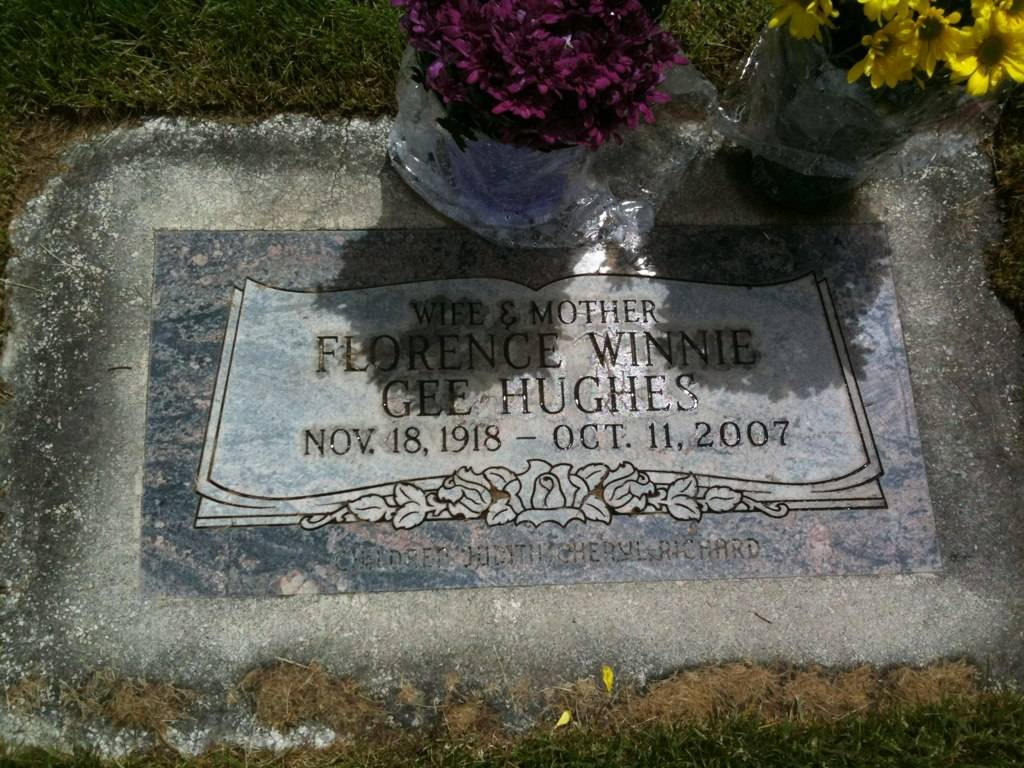flat: (24, 116, 1019, 670)
